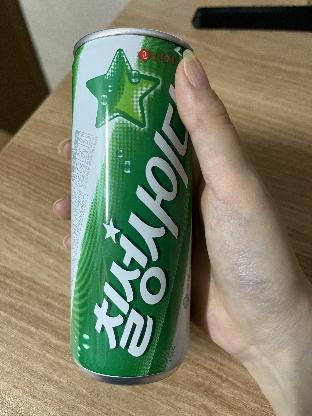Can: (70, 30, 198, 384)
